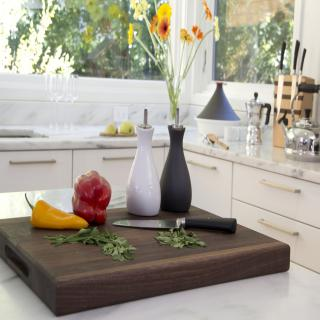Bell pepper: (70, 171, 112, 226)
